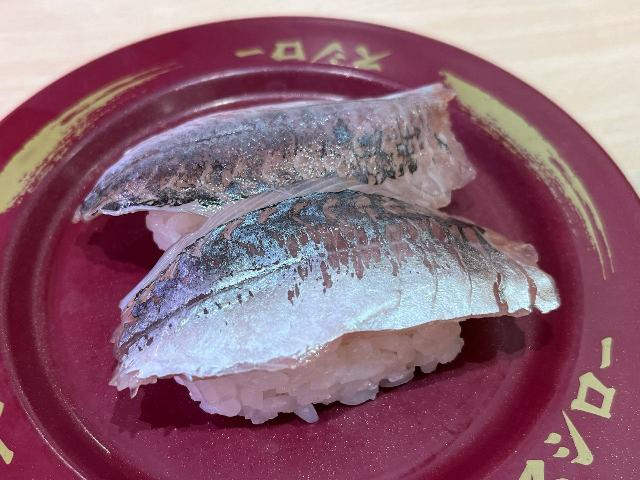janred: (0, 62, 640, 480)
